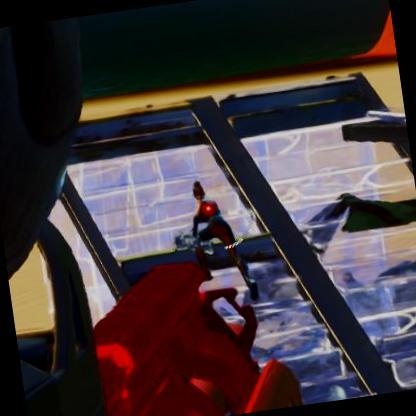person: (180, 179, 252, 296)
